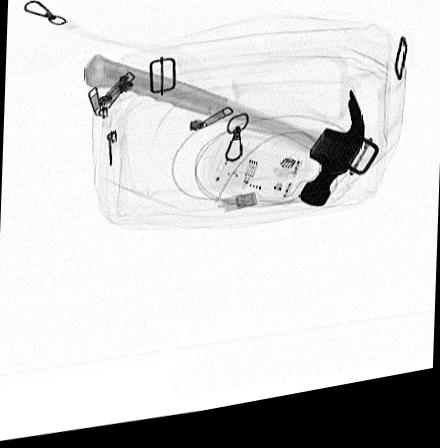Hammer: (84, 55, 365, 219)
